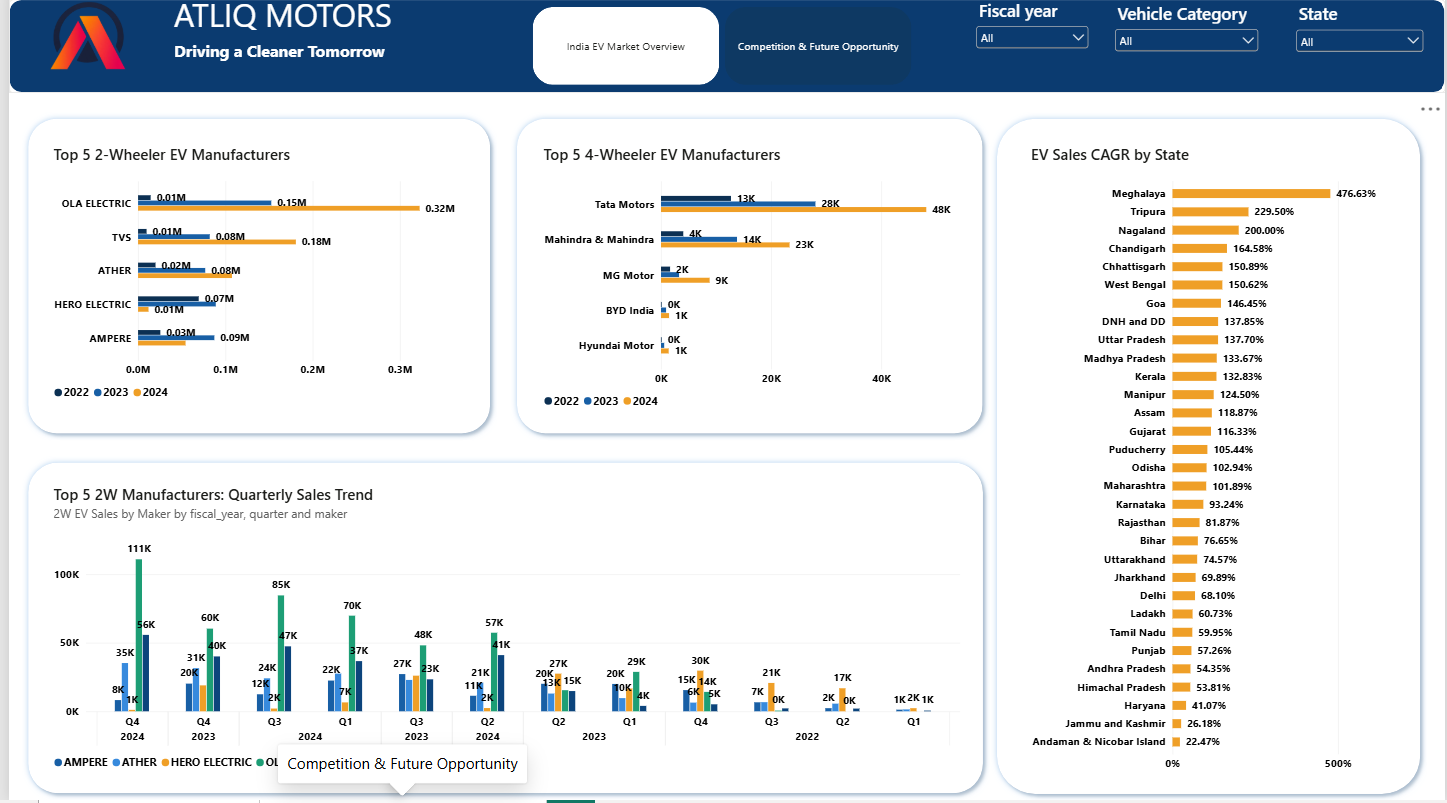

This screenshot's page, from the dashboard's own definition file:
{"tool":"powerbi","page":{"name":"Competition & Future Opportunity","canvas":[1920,1080],"ordinal":1},"visuals":[{"type":"shape","box":[16.7,620,1293.3,460],"z":0},{"type":"shape","box":[0,10,1920.1,124.9],"z":1000},{"type":"textbox","box":[0,0,1920.1,135.7],"z":2000},{"type":"textbox","box":[220.8,63.3,371,45.2],"z":3000},{"type":"image","box":[23.5,0,161.1,117.6],"z":4000},{"type":"slicer","fields":{"Values":["dim_date.fiscal_year"]},"box":[1286.7,0,159.3,135.7],"z":5000},{"type":"slicer","fields":{"Values":["fact_state_sales.vehicle_category"]},"box":[1473.3,0,200.9,124.9],"z":6000},{"type":"slicer","fields":{"Values":["fact_state_sales.state"]},"box":[1715.6,0,179,129],"z":7000},{"type":"shape","box":[16.7,160,635,438.3],"z":8000},{"type":"clusteredBarChart","title":"Top 5 2-Wheeler EV Manufacturers","fields":{"Category":["fact_makers_sales.maker"],"Series":["fact_makers_sales.fiscal_year"],"Y":["New Measures.2W EV Sales by Maker"]},"box":[43.3,188.3,585,376.7],"z":9000},{"type":"shape","box":[1310,160,583.3,920],"z":10000},{"type":"shape","box":[670,160,640,438.3],"z":11000},{"type":"clusteredBarChart","title":"Top 5 4-Wheeler EV Manufacturers","fields":{"Category":["fact_makers_sales.maker"],"Series":["fact_makers_sales.fiscal_year"],"Y":["New Measures.4W EV Sales by Maker"]},"box":[698.3,188.3,588.3,388.3],"z":12000},{"type":"clusteredColumnChart","title":"Top 5 2W Manufacturers: Quarterly Sales Trend","fields":{"Category":["fact_makers_sales.fiscal_year","fact_makers_sales.quarter"],"Series":["fact_makers_sales.maker"],"Y":["New Measures.2W EV Sales by Maker"]},"box":[43.3,643.3,1243.3,416.7],"z":13000},{"type":"clusteredBarChart","title":"EV Sales CAGR by State","fields":{"Category":["fact_state_sales.state"],"Y":["New Measures.EV Sales CAGR"]},"box":[1350,188.3,511.7,871.7],"z":14000}]}

Visuals, with their boxes on the page's 1920x1080 design canvas (x1, y1, x2, y2). These are canvas units, not pixel positions in the 1447x803 screenshot, which may show the page scaled, cropped or inside an application window:
shape: 17 620 1310 1080
shape: 0 10 1920 135
textbox: 0 0 1920 136
textbox: 221 63 592 108
image: 24 0 185 118
slicer - dim_date.fiscal_year: 1287 0 1446 136
slicer - fact_state_sales.vehicle_category: 1473 0 1674 125
slicer - fact_state_sales.state: 1716 0 1895 129
shape: 17 160 652 598
"Top 5 2-Wheeler EV Manufacturers" clusteredBarChart: 43 188 628 565
shape: 1310 160 1893 1080
shape: 670 160 1310 598
"Top 5 4-Wheeler EV Manufacturers" clusteredBarChart: 698 188 1287 577
"Top 5 2W Manufacturers: Quarterly Sales Trend" clusteredColumnChart: 43 643 1287 1060
"EV Sales CAGR by State" clusteredBarChart: 1350 188 1862 1060
